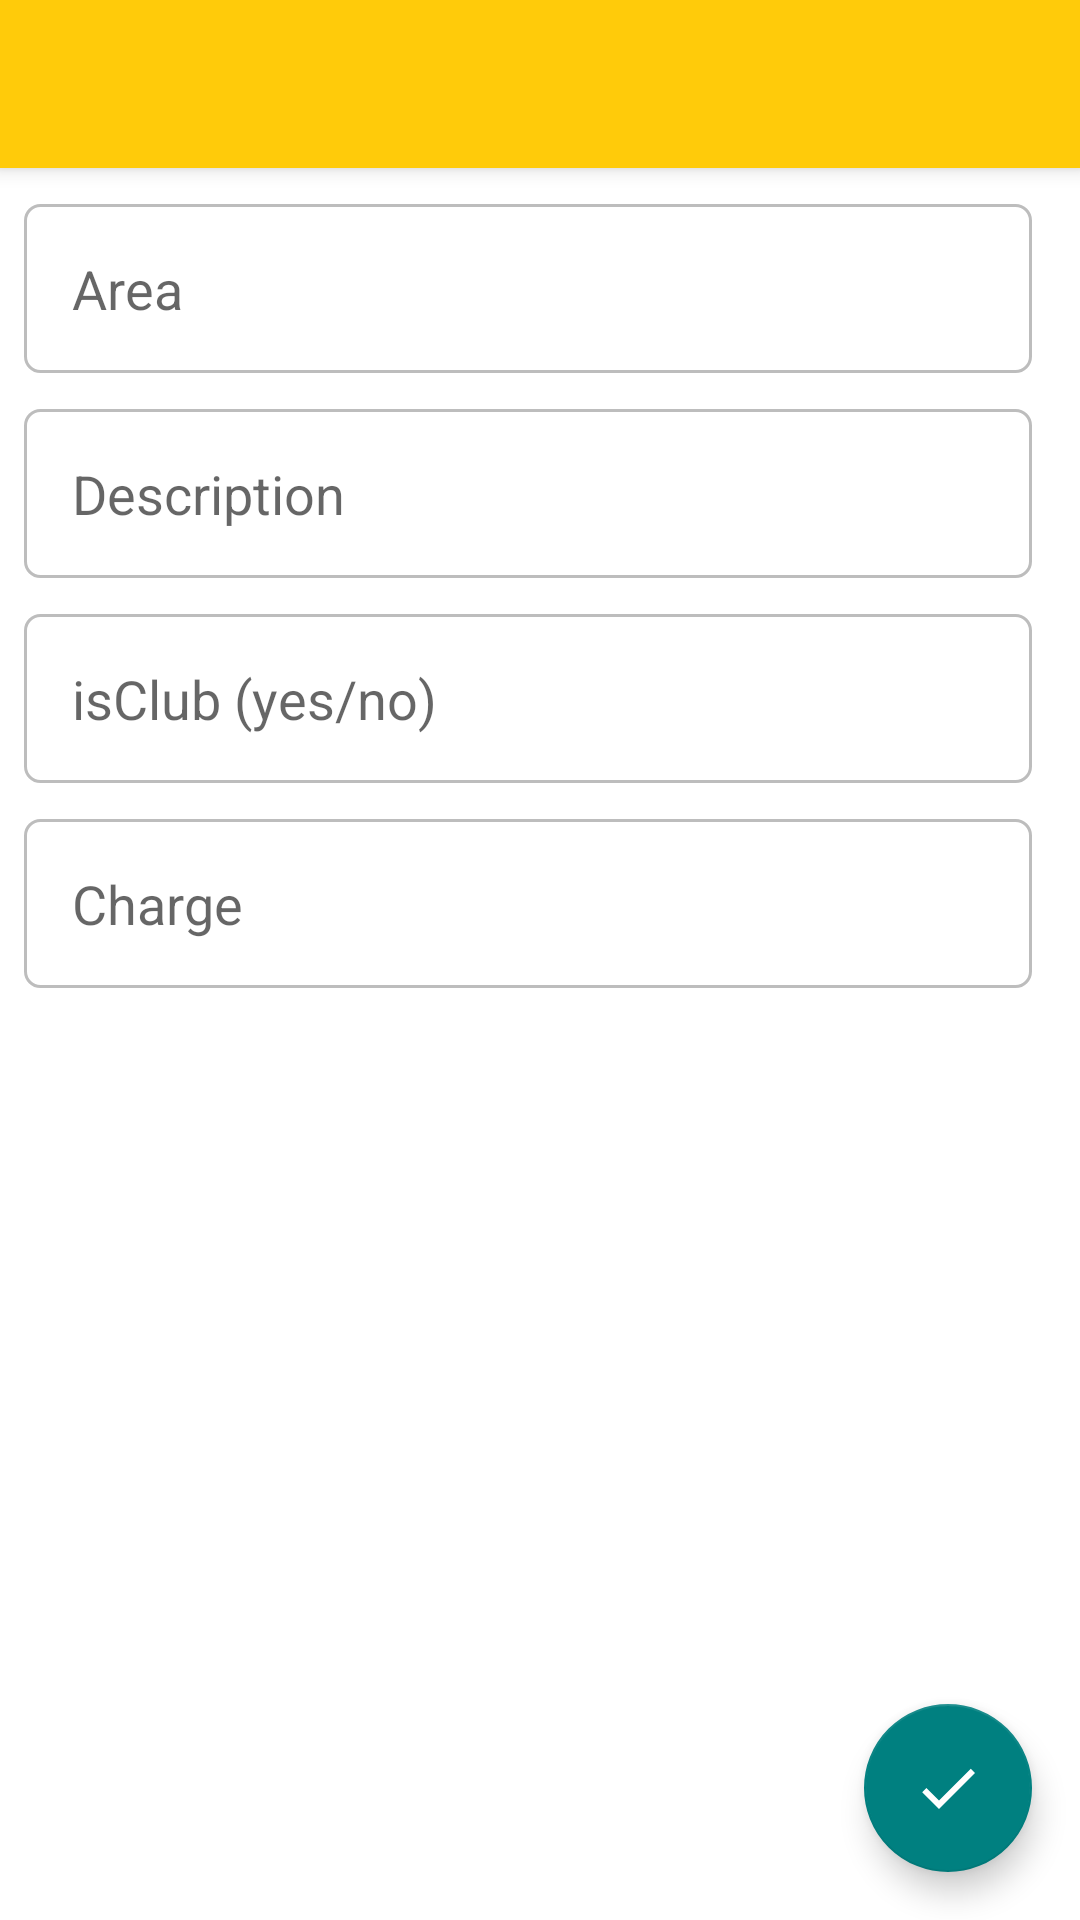

Named icons in this screenshot (1080 x 1920) and their bounding boxes, BBox(x1, y1, x2, y2):
done: BBox(864, 1704, 1032, 1872)
